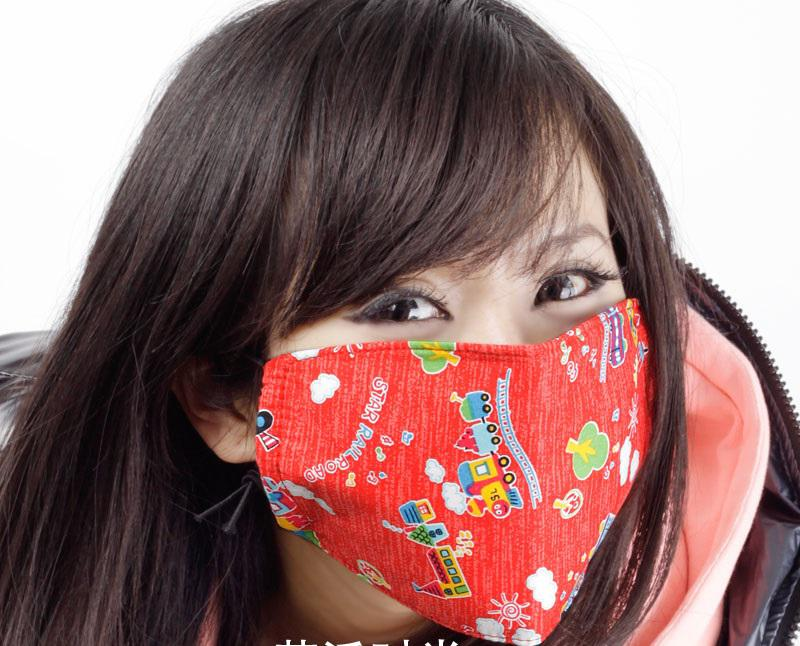OK: (260, 219, 676, 635)
